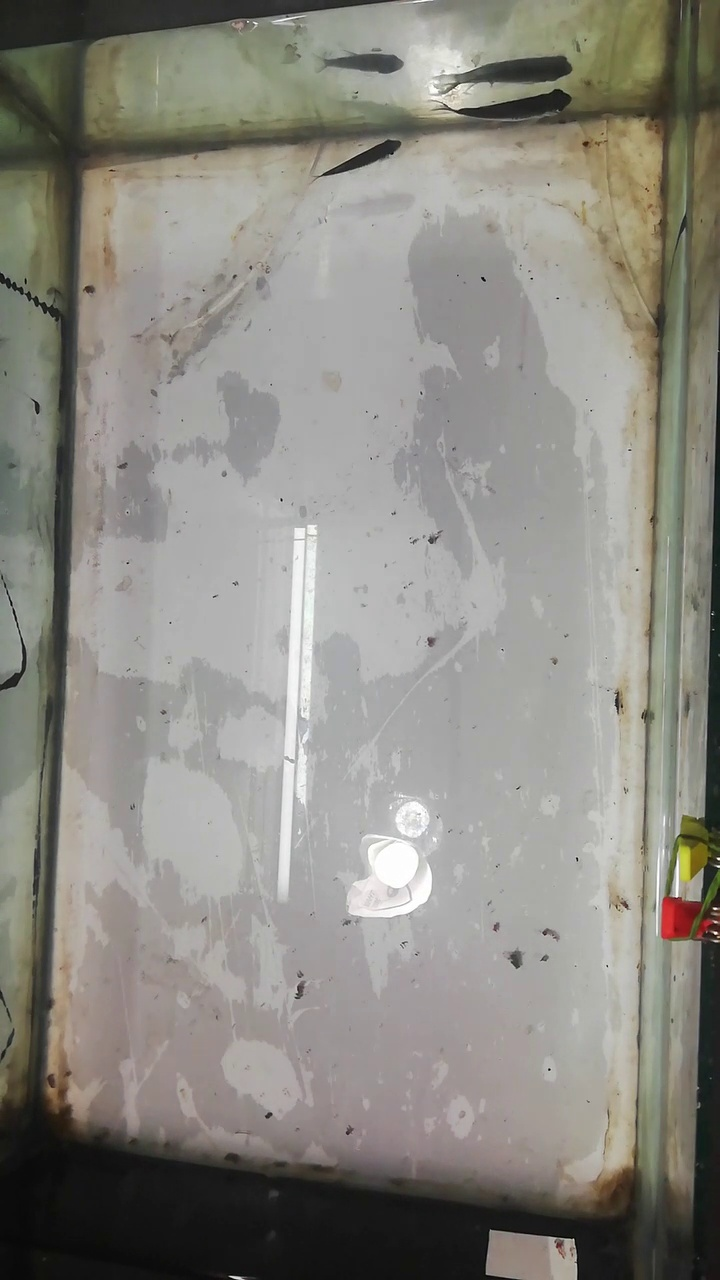fish1: (447, 89, 572, 130)
fish2: (314, 134, 402, 175)
